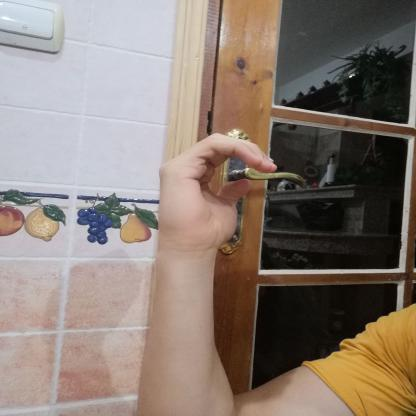JEEM: (144, 126, 286, 260)
